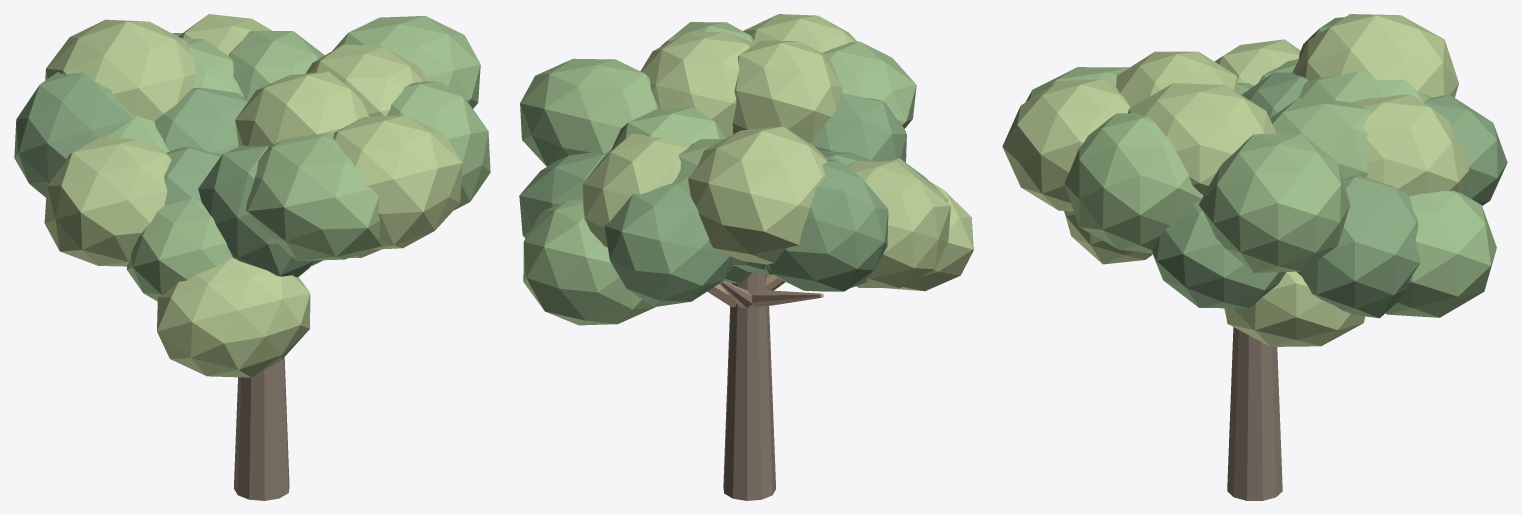
The model's file is oak_green.glb.
The picture shows the model from 3 angles, left to right: view 1: azimuth 30°, elevation 25°; view 2: azimuth 150°, elevation 25°; view 3: azimuth 270°, elevation 25°; orthographic projection. The views are drawn at different scales.
Visible parts, largest first — view 1: oak_green_leaves_light, oak_green_leaves, oak_green_leaves_dark, oak_green_bark; view 2: oak_green_leaves_light, oak_green_leaves, oak_green_leaves_dark, oak_green_bark, oak_green_bark_light; view 3: oak_green_leaves_light, oak_green_leaves, oak_green_leaves_dark, oak_green_bark.
Part boxes in pixels (x1,y1,x2,y2): oak_green_leaves_light: (44,14,462,377); oak_green_leaves: (107,16,490,301); oak_green_leaves_dark: (14,33,315,277); oak_green_bark: (234,357,289,500); oak_green_leaves_light: (582,14,973,291); oak_green_leaves: (520,22,947,325); oak_green_leaves_dark: (519,93,906,306); oak_green_bark: (723,272,775,500); oak_green_bark_light: (707,273,823,308); oak_green_leaves_light: (1002,14,1469,346); oak_green_leaves: (1026,59,1496,317); oak_green_leaves_dark: (1072,17,1507,318); oak_green_bark: (1227,327,1282,500).
Bounding box in the file's own units: 4.69 × 4.65 × 4.86.
